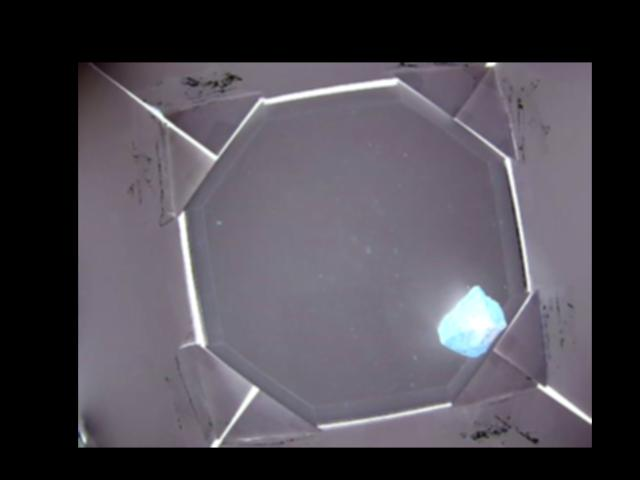Brisk: (436, 286, 505, 355)
